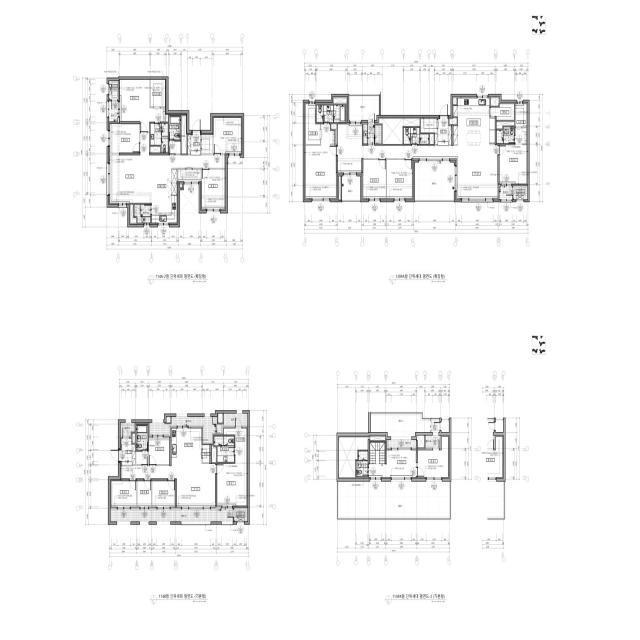space_balconi: (149, 417, 222, 445), (111, 508, 233, 522), (415, 162, 454, 200), (349, 97, 379, 120), (342, 176, 360, 200), (363, 123, 382, 144), (134, 205, 151, 224), (224, 413, 247, 427), (121, 422, 135, 437), (388, 440, 416, 447), (109, 101, 118, 122), (499, 187, 512, 200), (425, 435, 439, 447)
space_bedroom: (305, 124, 337, 200), (119, 80, 165, 132), (499, 128, 528, 184), (418, 435, 449, 479), (217, 464, 247, 507), (213, 117, 242, 155), (387, 160, 413, 200), (201, 170, 226, 210), (362, 160, 386, 200), (109, 123, 139, 153), (111, 481, 136, 508), (152, 481, 175, 508), (149, 436, 169, 464)
space_dressroom: (223, 427, 248, 464), (305, 102, 320, 144), (150, 80, 166, 107), (515, 102, 528, 127)
space_front: (435, 117, 451, 146), (119, 437, 135, 466), (188, 131, 201, 155)
space_kitchen: (452, 96, 495, 144), (152, 169, 178, 224), (169, 426, 203, 464)
space_living_room: (338, 123, 498, 200), (109, 133, 226, 204), (121, 464, 215, 508), (369, 448, 416, 479)
space_other: (339, 481, 449, 517), (371, 415, 440, 437), (339, 437, 368, 478), (378, 117, 420, 144), (491, 102, 514, 120), (137, 481, 151, 508), (178, 169, 201, 183), (421, 117, 437, 133), (202, 134, 213, 153), (182, 116, 187, 154), (169, 141, 181, 154), (136, 452, 148, 464), (129, 204, 136, 224), (331, 124, 337, 144), (497, 122, 514, 129), (203, 445, 209, 463), (333, 97, 347, 104), (370, 435, 386, 441), (441, 420, 449, 432), (417, 435, 424, 448), (491, 97, 500, 106), (212, 445, 216, 462), (449, 117, 457, 124), (339, 176, 341, 200), (218, 414, 223, 423), (430, 134, 434, 144), (452, 97, 457, 105), (132, 434, 135, 443), (166, 417, 170, 423), (166, 114, 168, 122), (180, 184, 183, 188)
space_outdoor_room: (513, 186, 528, 200), (234, 508, 247, 522), (109, 81, 118, 100)
space_staircase: (370, 442, 385, 464)
space_toilet: (150, 124, 168, 153), (214, 436, 234, 462), (317, 105, 345, 122), (404, 128, 429, 144), (169, 116, 181, 141), (136, 425, 148, 450), (356, 451, 368, 476), (497, 127, 514, 143)
